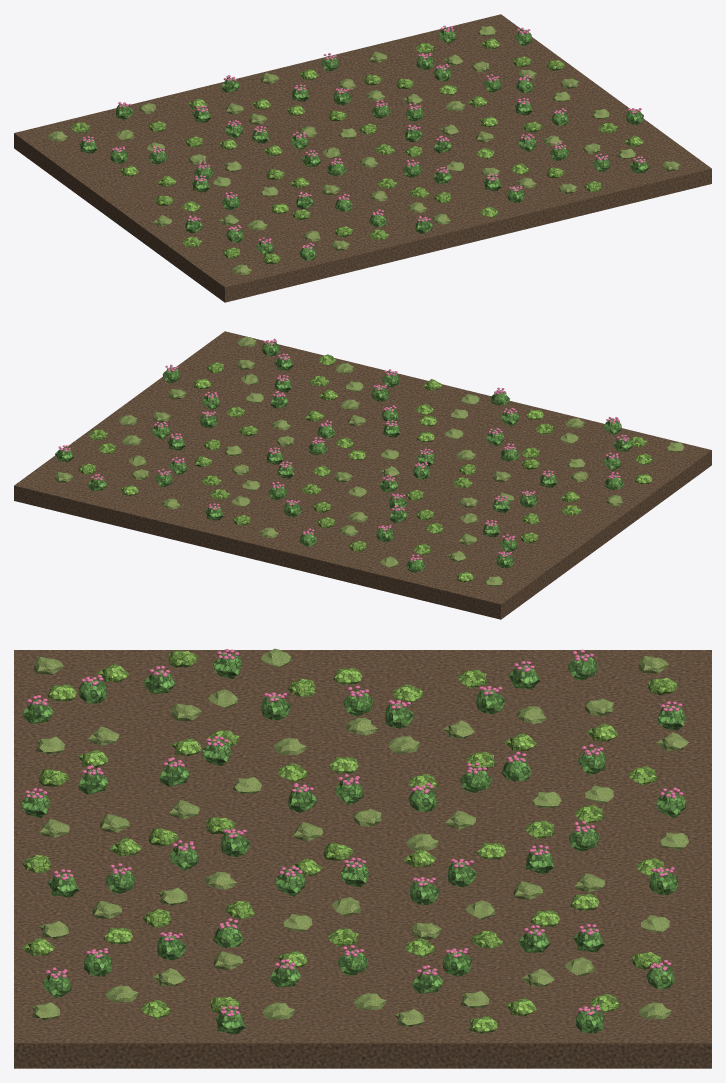
3 renders of one model, top to bottom at view 1: azimuth 30°, elevation 25°; view 2: azimuth 150°, elevation 25°; view 3: azimuth 270°, elevation 25°, orthographic. The views are drawn at different scales.
Parts seen in each view (by area): view 1: landscape.green_roof; view 2: landscape.green_roof; view 3: landscape.green_roof.
Part boxes in pixels (left/top/right/bottom): landscape.green_roof: left=14, top=14, right=711, bottom=302; landscape.green_roof: left=14, top=331, right=711, bottom=619; landscape.green_roof: left=14, top=650, right=711, bottom=1068.
Bounding box in the file's own units: 4 × 3 × 0.2384.
5 materials, 4 textured.
